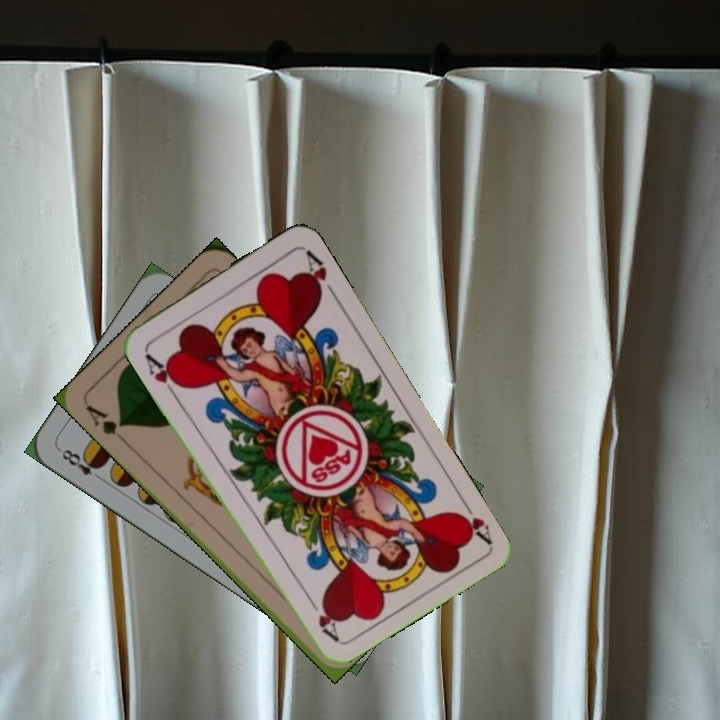E8: (55, 445, 107, 484)
GA: (81, 400, 129, 445)
HA: (140, 346, 185, 399), (451, 492, 494, 546)
